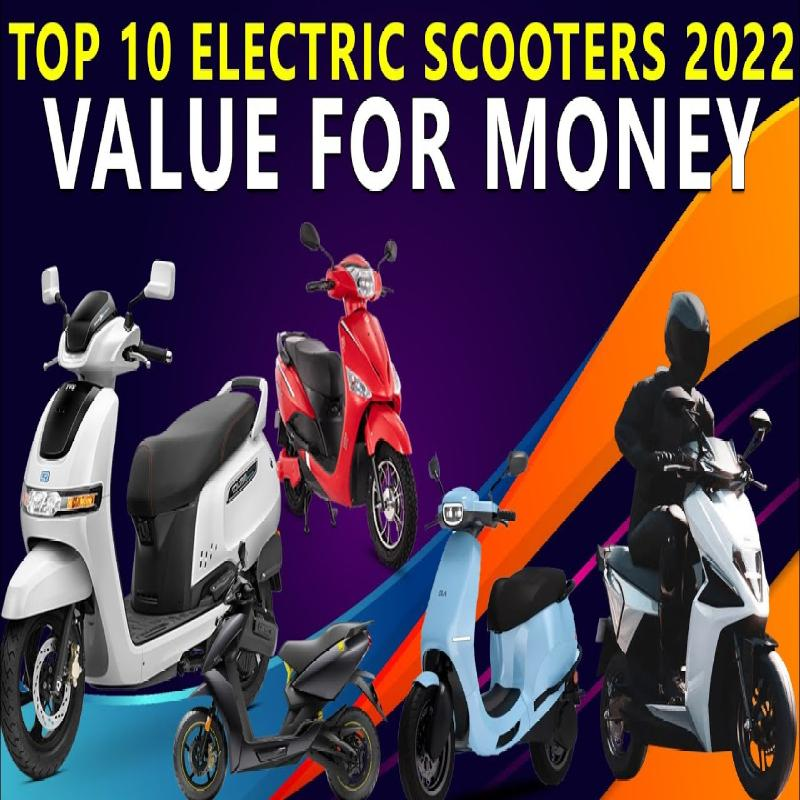bike: (5, 224, 290, 798), (595, 420, 797, 800), (404, 441, 582, 799), (270, 210, 429, 575), (174, 530, 386, 798)
